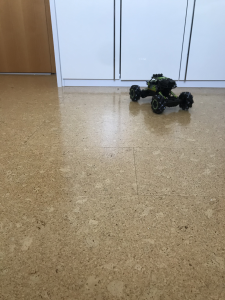remote control car: (128, 71, 194, 115)
